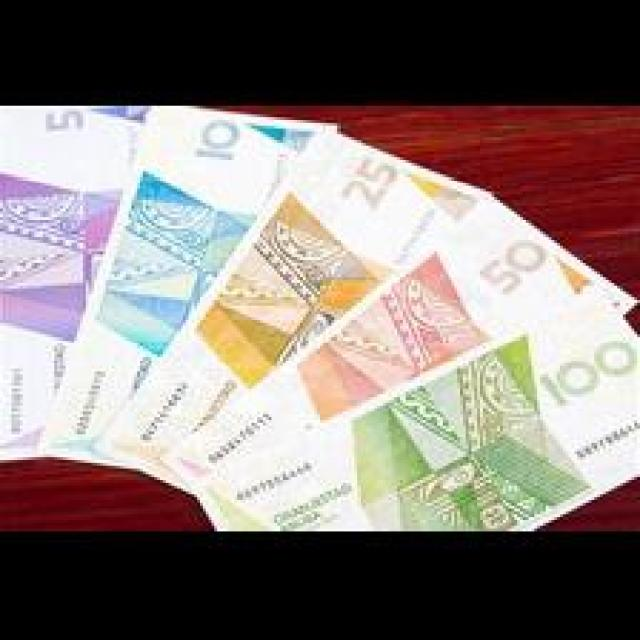banknote: (93, 102, 497, 492), (149, 190, 636, 500), (36, 101, 339, 458), (198, 298, 638, 531), (0, 103, 214, 460)
